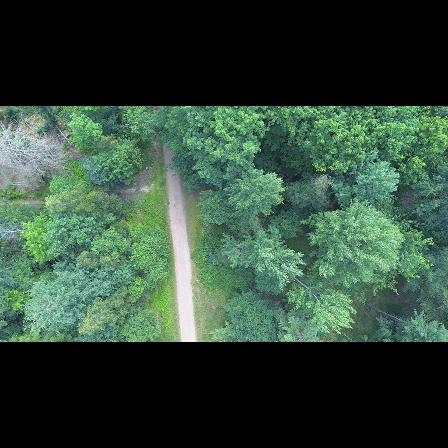Dead: (0, 130, 70, 172), (0, 162, 54, 194), (0, 221, 29, 241)
